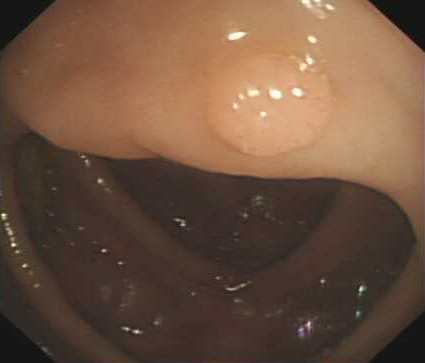others: (202, 49, 335, 158)
